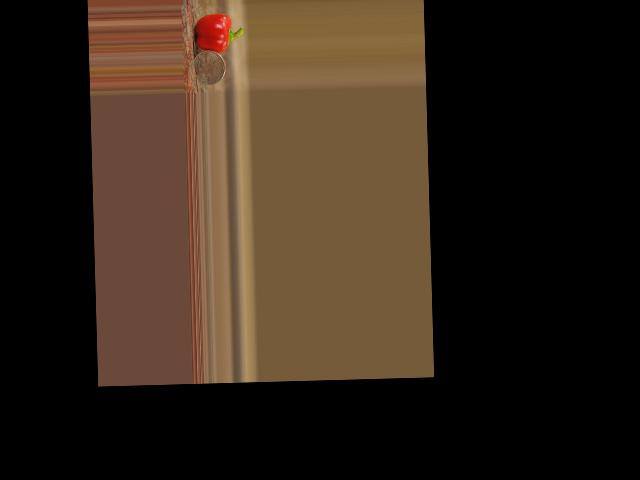bell_pepper: (192, 12, 243, 52)
